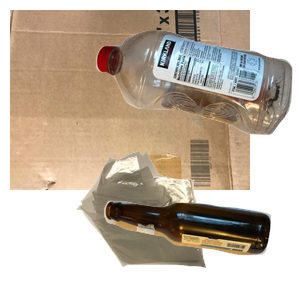cardboard: (10, 10, 250, 190)
glass: (101, 198, 300, 300)
plastic: (93, 27, 300, 154)
trash: (74, 148, 273, 300)
